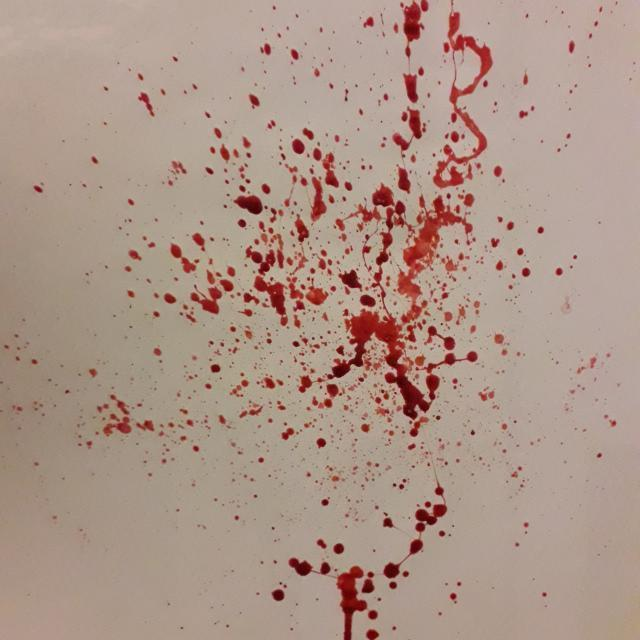wound: (136, 0, 545, 458), (207, 153, 473, 436), (200, 469, 556, 640)
